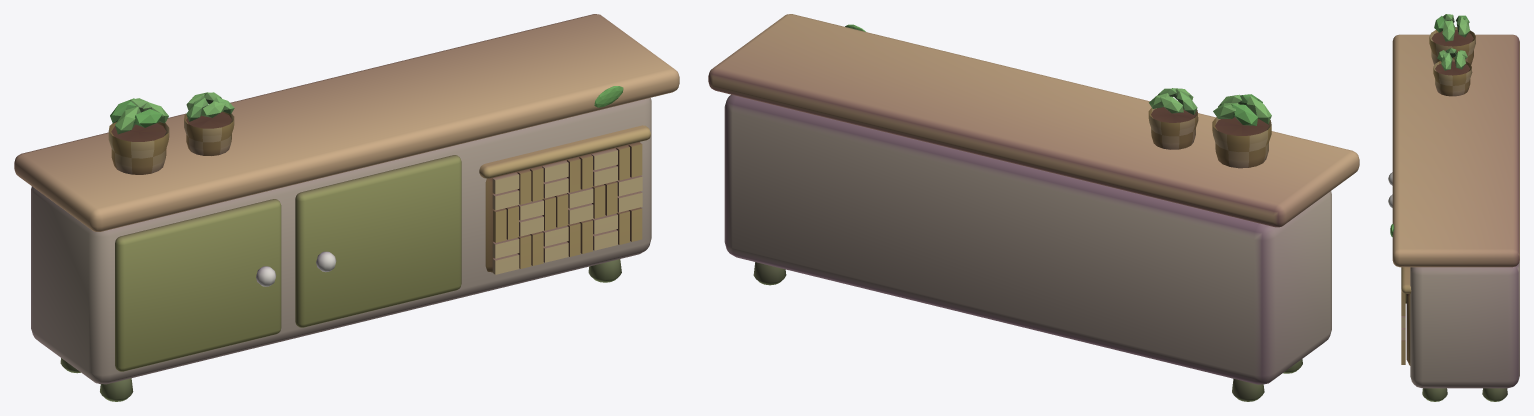
File: cabinet_garden.glb
3 views of the same model, side by side, from view 1: azimuth 30°, elevation 25°; view 2: azimuth 150°, elevation 25°; view 3: azimuth 270°, elevation 25° (orthographic). The views are drawn at different scales.
Parts seen in each view (by area): view 1: cabinet_garden; view 2: cabinet_garden; view 3: cabinet_garden.
Part boxes in pixels (left/top/right/bottom): cabinet_garden: left=14, top=14, right=679, bottom=401; cabinet_garden: left=708, top=14, right=1359, bottom=401; cabinet_garden: left=1388, top=14, right=1519, bottom=401.
Bounding box in the file's own units: 2.94 × 1.33 × 0.7452.
